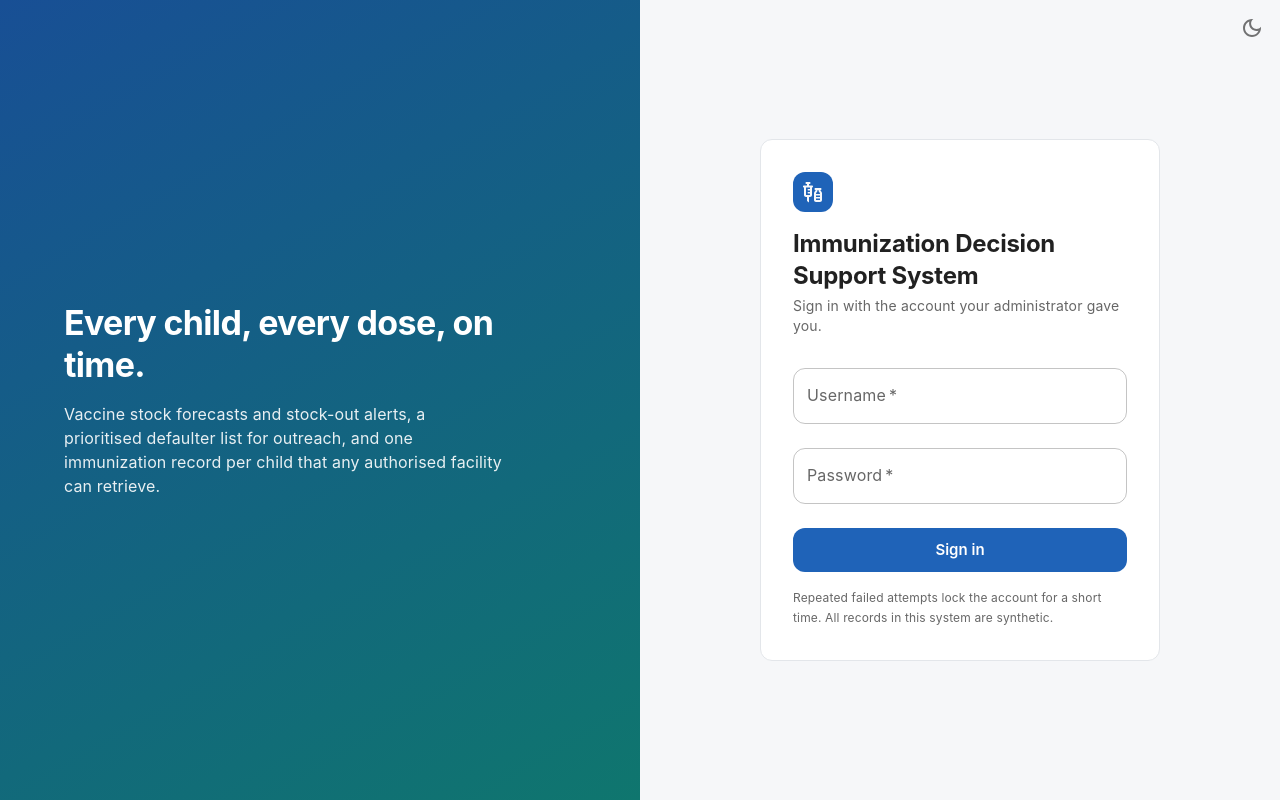
Test: a health worker lands on the overview with counts, alerts and the synthetic-data notice
This screenshot has width=1280, height=800.
In the field labelled "Username *": point(960, 396) [793,368,1127,424], type "hcw-a"
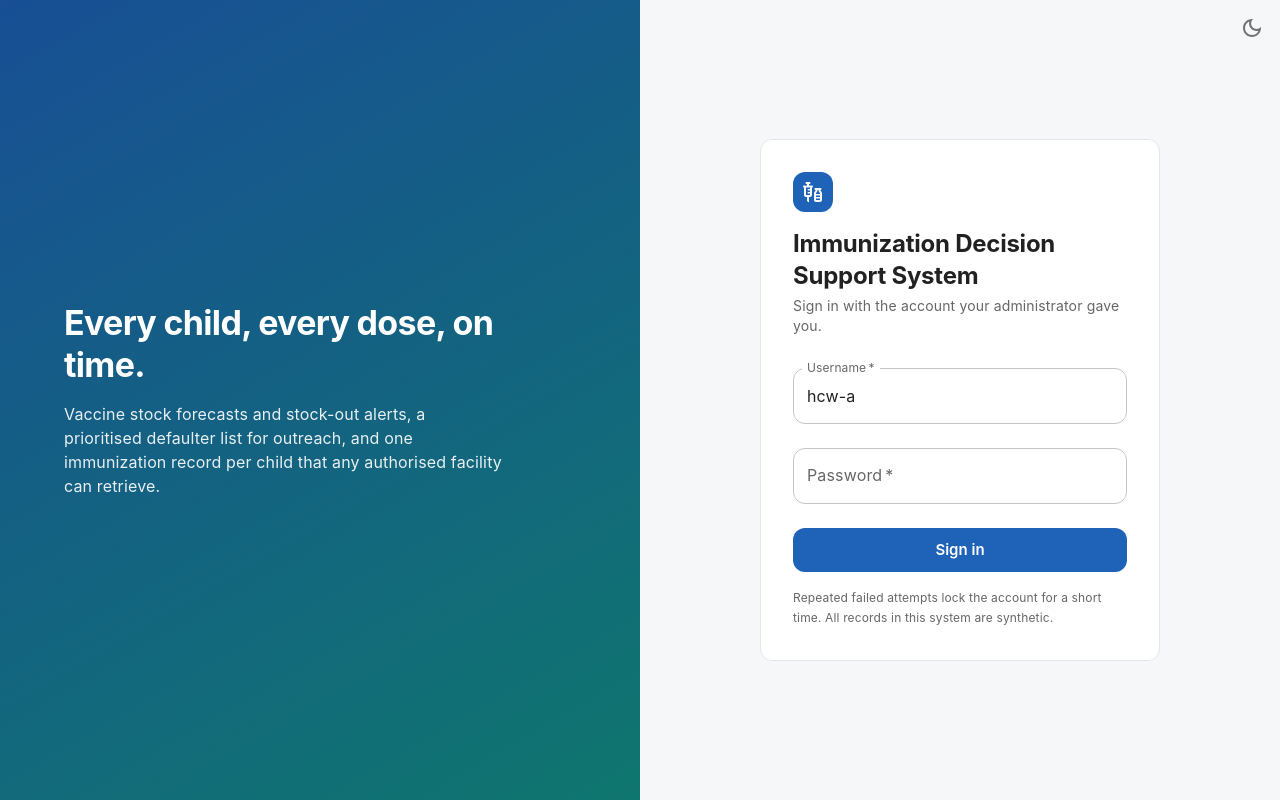
In the password field labelled "Password *": point(960, 476) [793,448,1127,504], type "long-enough-pw"
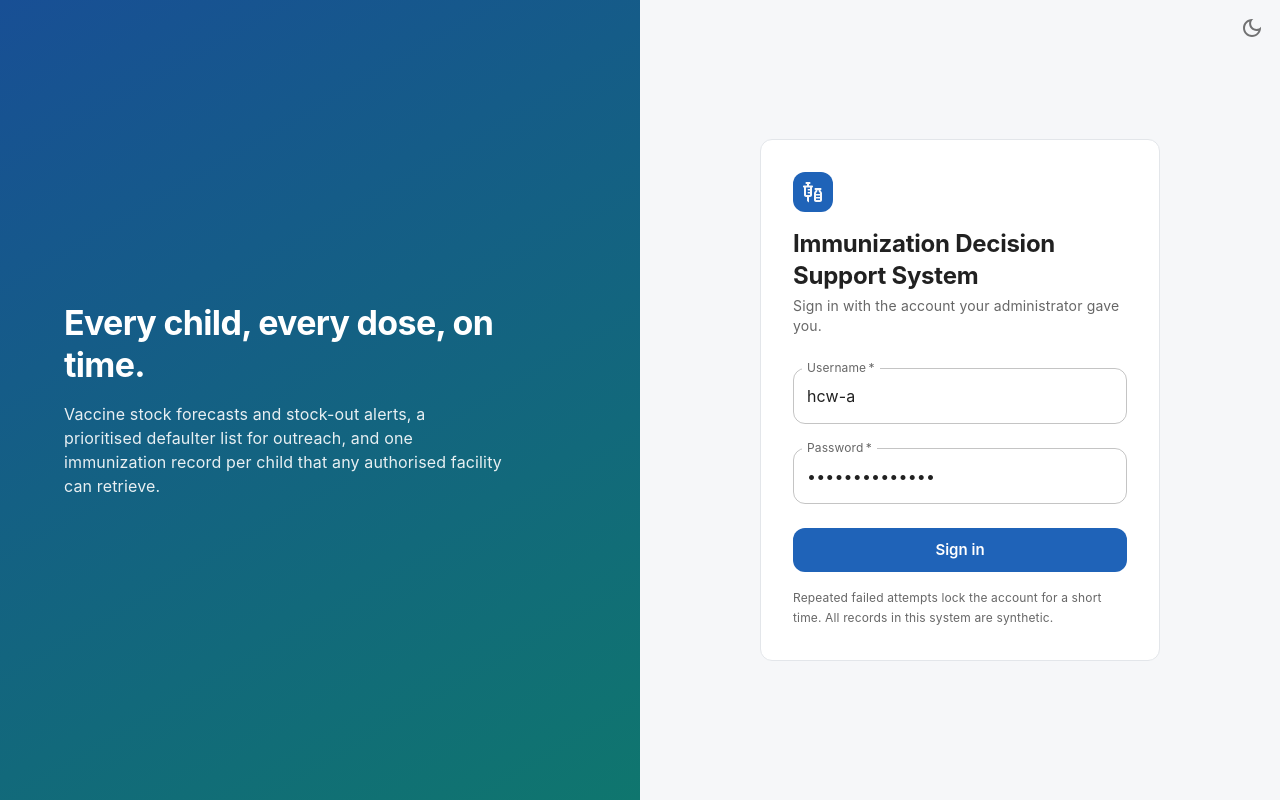
Click the button "Sign in": point(960, 550) [793,528,1127,572]
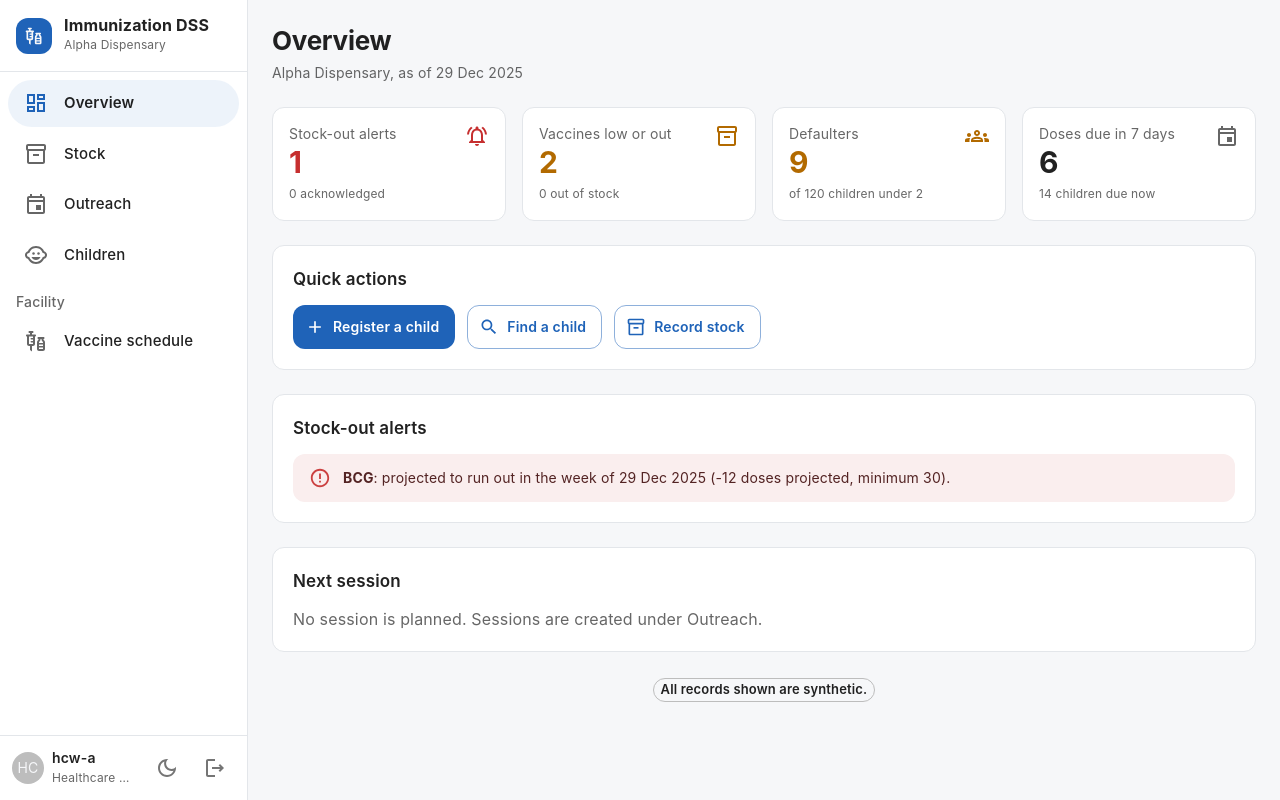
Check: the link with aria-label "Defaulters: 9" is shown, box [773,108,1005,220]
Check: the link with aria-label "Stock-out alerts: 1" is shown, box [273,108,505,220]
Check: the text "projected to run out" is shown, box [382,469,515,486]
